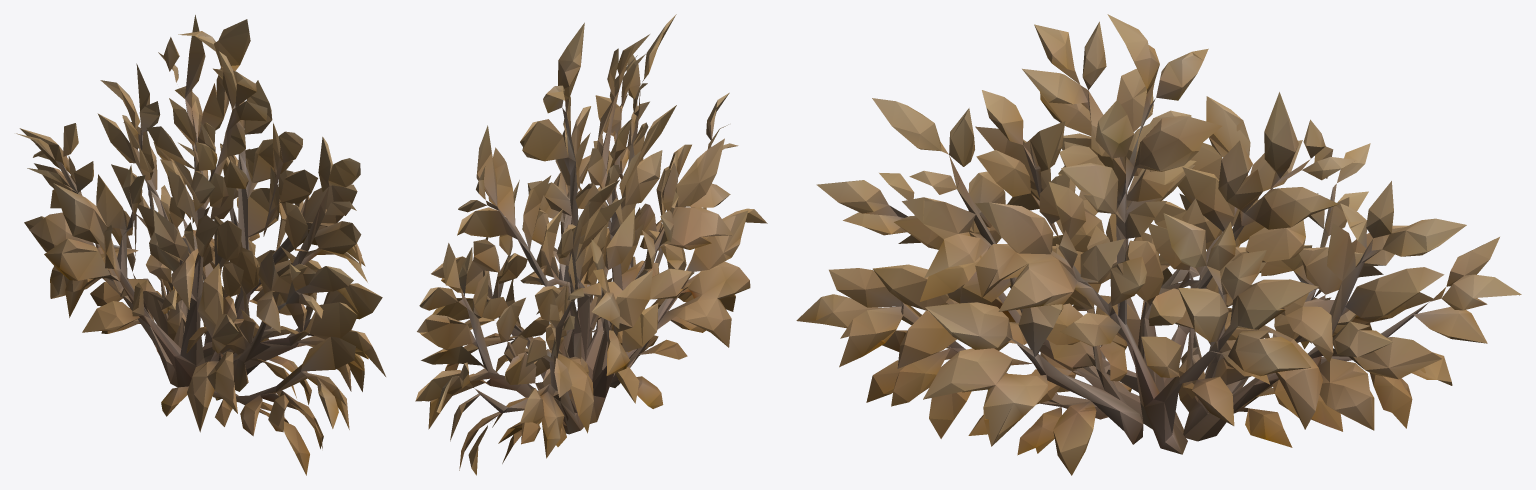
The model's file is bush_dry.glb.
3 renders of one model, left to right at view 1: azimuth 30°, elevation 25°; view 2: azimuth 150°, elevation 25°; view 3: azimuth 270°, elevation 25°, orthographic. The views are drawn at different scales.
Parts seen in each view (by area): view 1: tripo_node_e0dbebd3-7ad4-4959-83d2-0d000ecf87a1; view 2: tripo_node_e0dbebd3-7ad4-4959-83d2-0d000ecf87a1; view 3: tripo_node_e0dbebd3-7ad4-4959-83d2-0d000ecf87a1.
Part boxes in pixels (<box>): tripo_node_e0dbebd3-7ad4-4959-83d2-0d000ecf87a1: <box>16,15,385,475</box>; tripo_node_e0dbebd3-7ad4-4959-83d2-0d000ecf87a1: <box>415,14,767,475</box>; tripo_node_e0dbebd3-7ad4-4959-83d2-0d000ecf87a1: <box>796,14,1521,475</box>.
Size of the model in its own units: 0.348 by 0.6501 by 0.9781.
